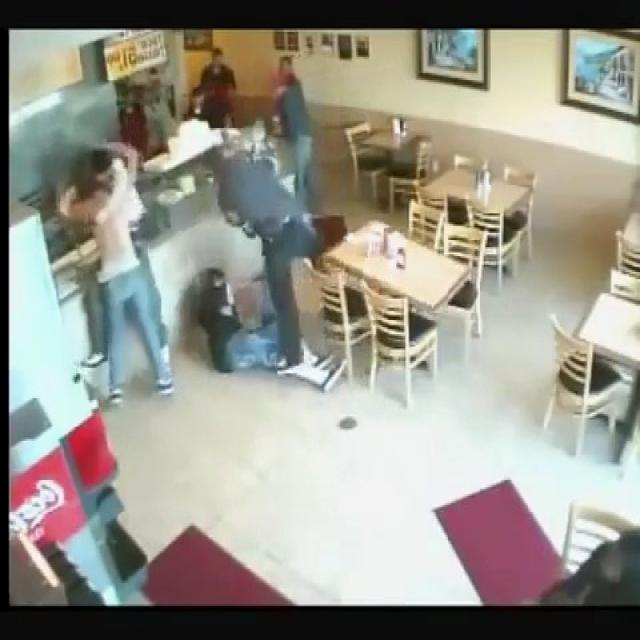fight: (57, 136, 172, 406), (195, 141, 318, 384)
